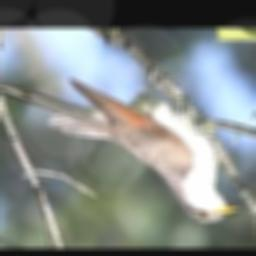Cuckoo: (0, 81, 241, 222)
